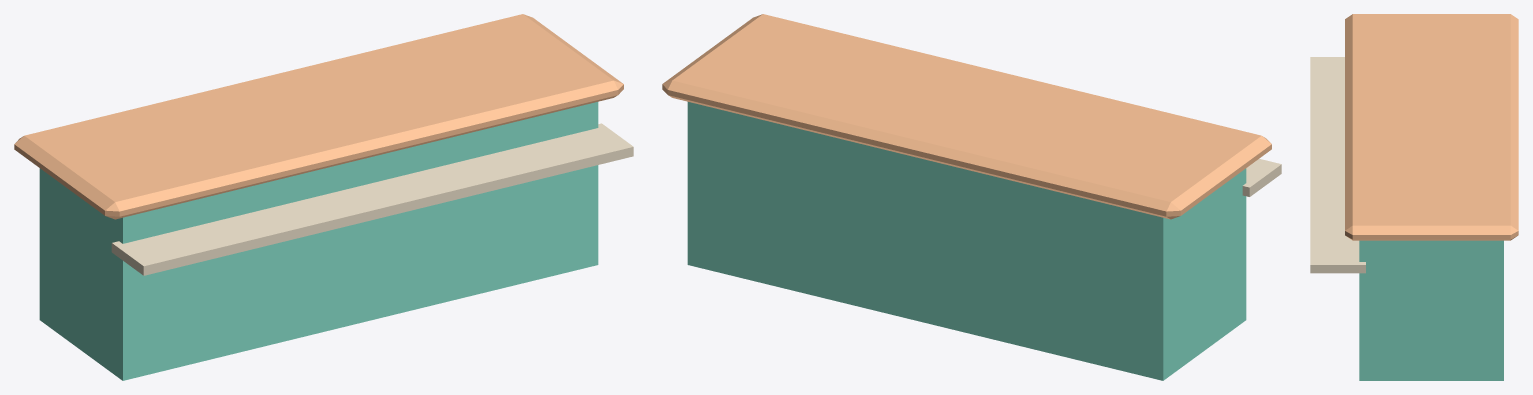
The picture shows the model from 3 angles, left to right: view 1: azimuth 30°, elevation 25°; view 2: azimuth 150°, elevation 25°; view 3: azimuth 270°, elevation 25°; orthographic projection. The views are drawn at different scales.
Visible parts, largest first — view 1: Counter body, Countertop, Visitor shelf; view 2: Counter body, Countertop, Visitor shelf; view 3: Countertop, Counter body, Visitor shelf.
Part boxes in pixels (x1,y1,x2,y2): Counter body: (39, 102, 598, 380); Countertop: (14, 14, 623, 219); Visitor shelf: (111, 123, 633, 275); Counter body: (687, 102, 1246, 380); Countertop: (662, 14, 1271, 219); Visitor shelf: (1242, 158, 1281, 196); Countertop: (1345, 14, 1518, 240); Counter body: (1359, 240, 1503, 380); Visitor shelf: (1310, 57, 1365, 273).
Bounding box in the file's own units: 234 × 79.5 × 93.5.
